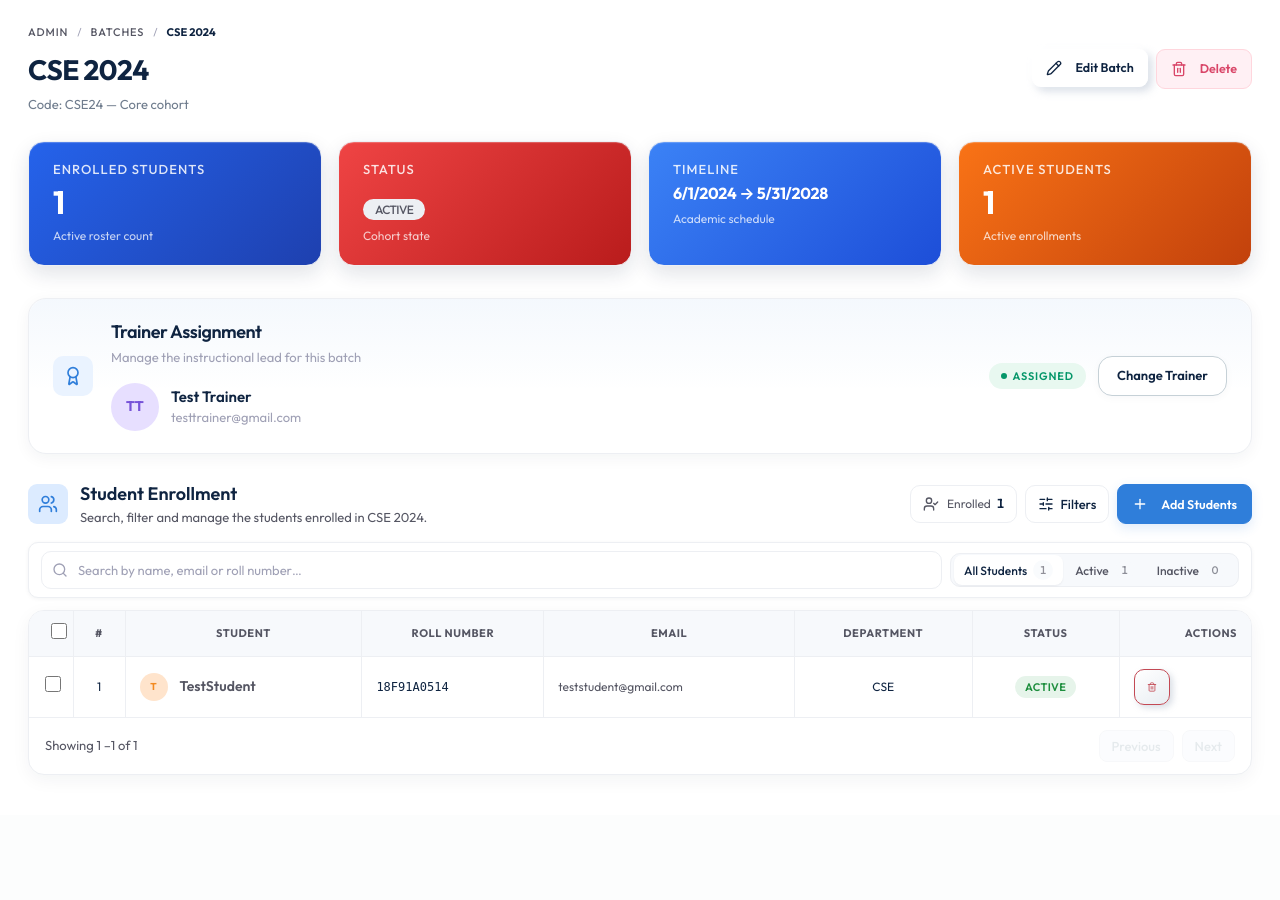
search matches name, email and roll number
Expected: the text "TestStudent" is shown, left=180, top=677, right=256, bottom=695
Type "18F91A0514" into the field named "Search enrolled students" at x=492, y=570, box left=41, top=551, right=942, bottom=589
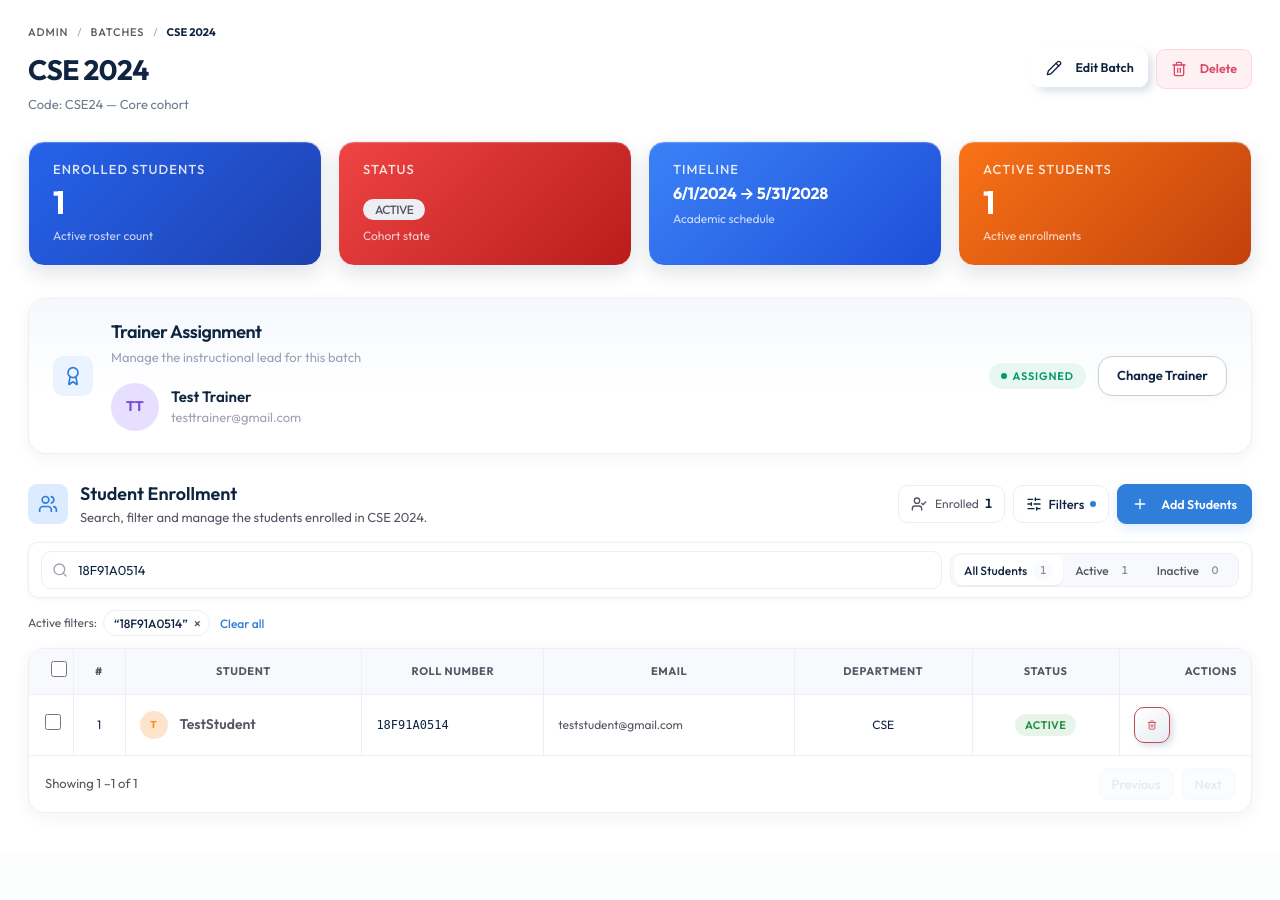
Expected: the text "TestStudent" is shown, left=180, top=715, right=256, bottom=733
Replace the text in the field named "Search enrolled students" with "teststudent@" at x=492, y=570, box left=41, top=551, right=942, bottom=589
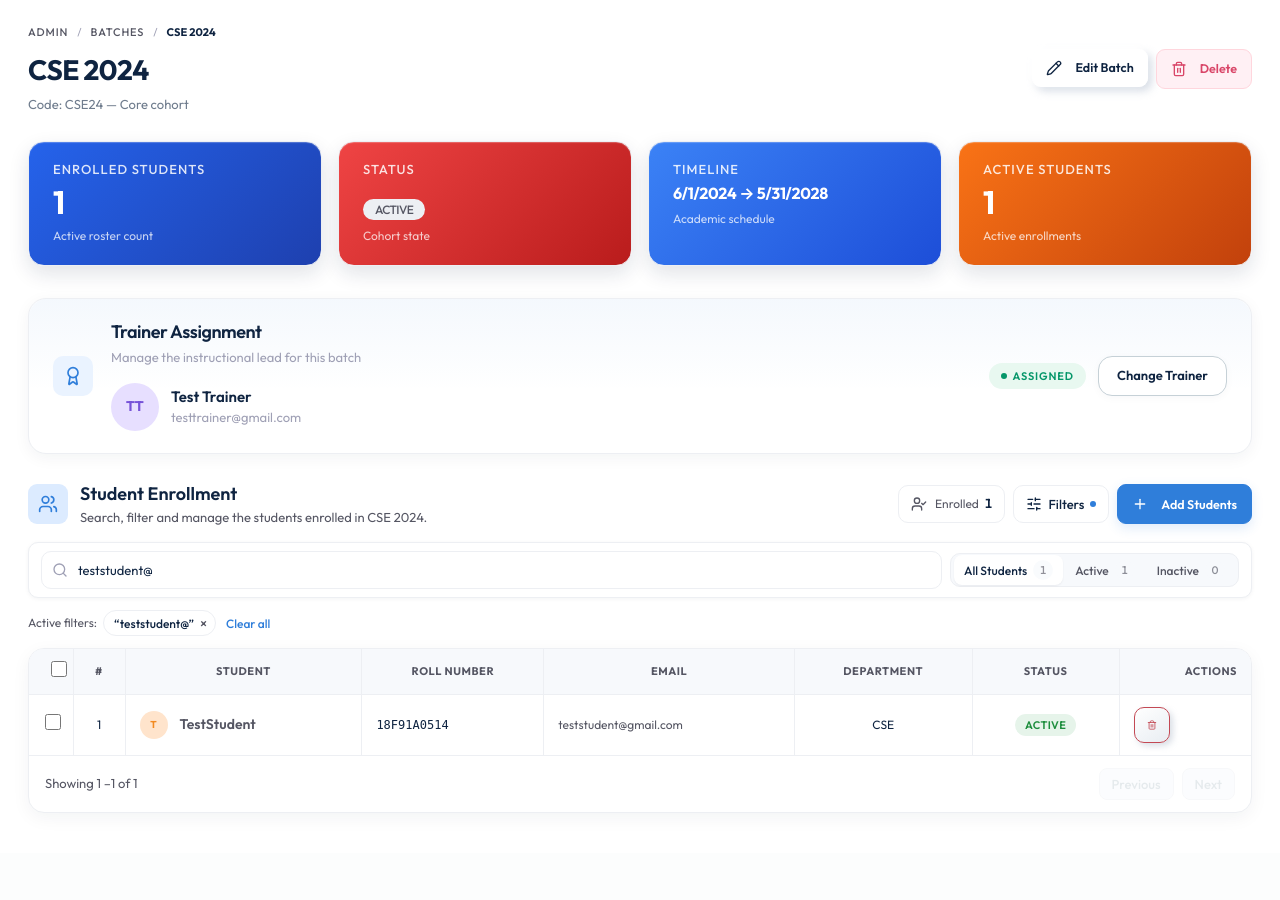
Expected: the text "TestStudent" is shown, left=180, top=715, right=256, bottom=733
Replace the text in the field named "Search enrolled students" with "zzz-nobody" at x=492, y=570, box left=41, top=551, right=942, bottom=589
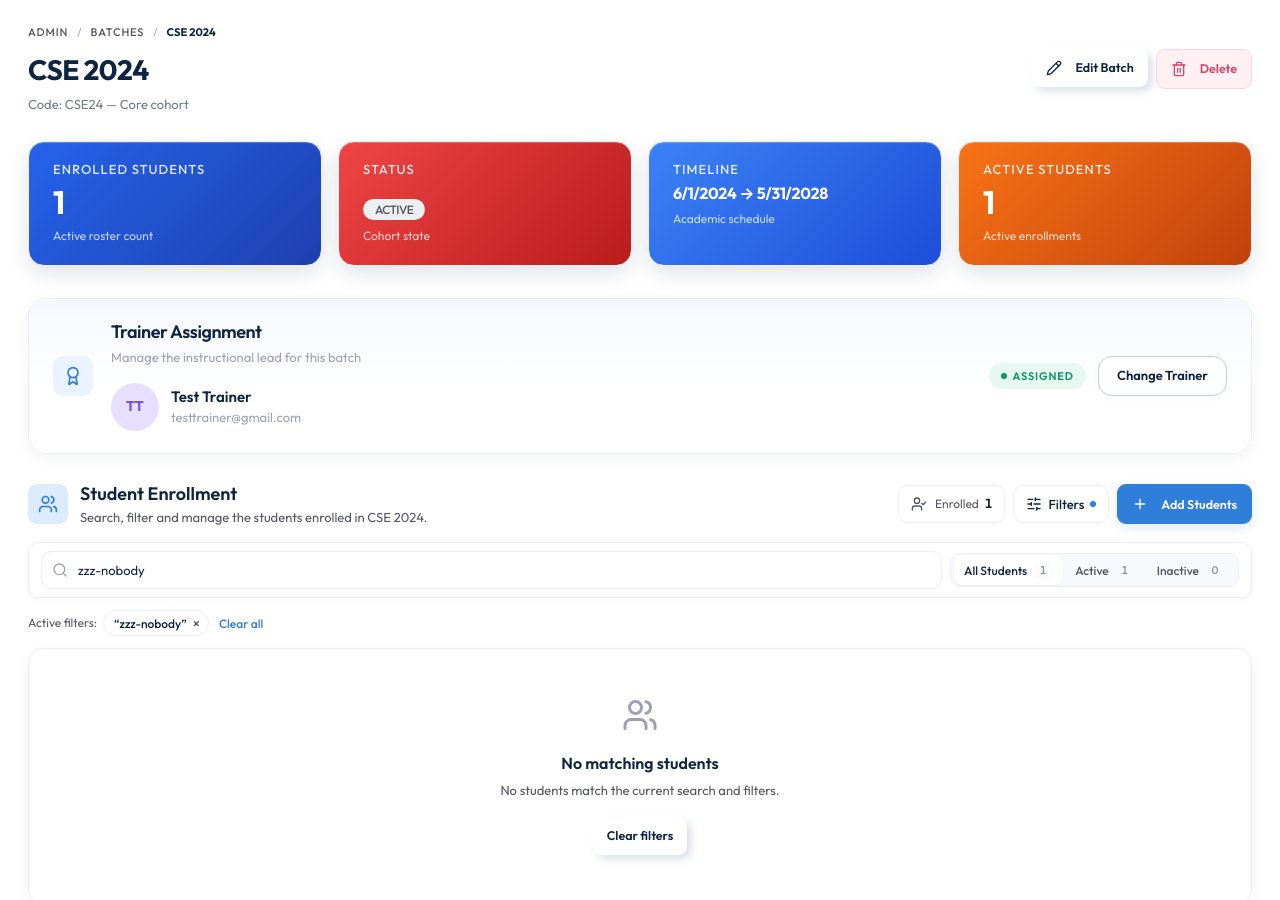
Expected: the heading "No matching students" is shown, left=561, top=753, right=719, bottom=773
